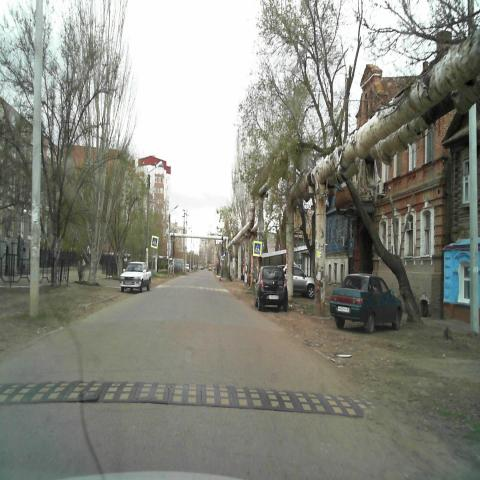5_19_1: (253, 241, 261, 257), (151, 236, 158, 248)
